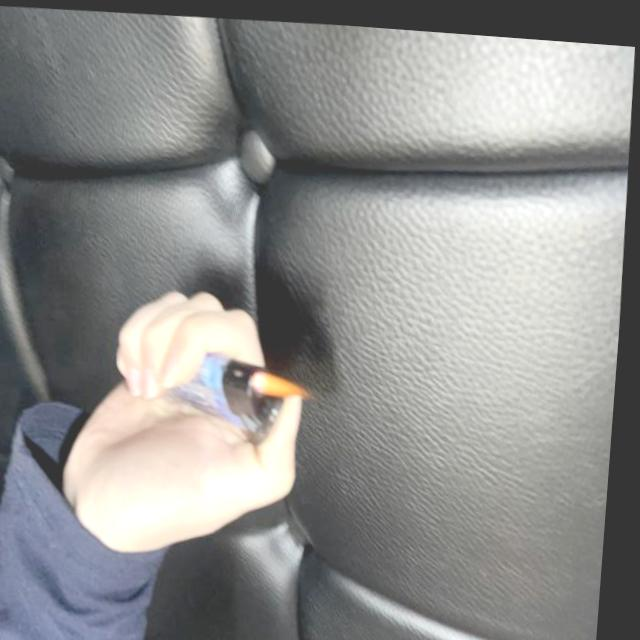Fire: (252, 359, 317, 402)
